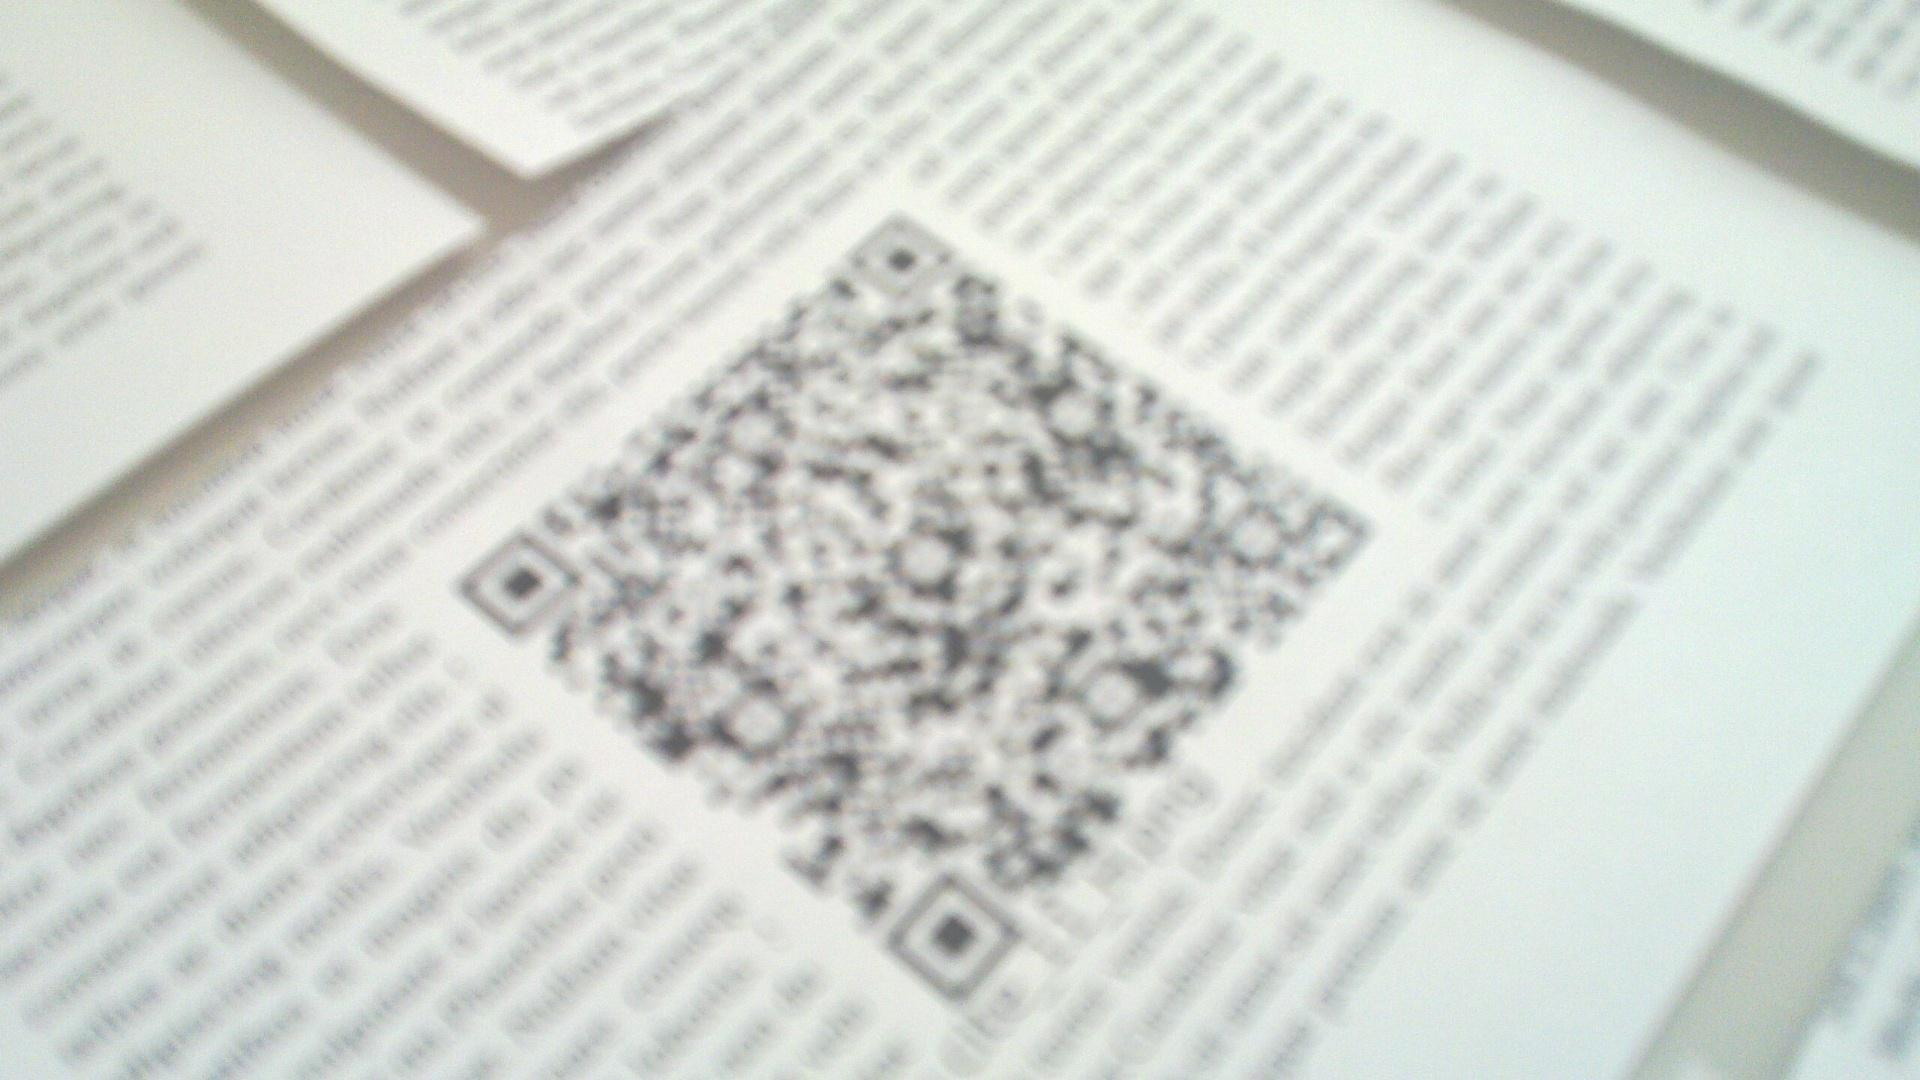Finder pattern: (878, 866, 1026, 1006), (456, 531, 583, 649), (841, 214, 955, 297)
